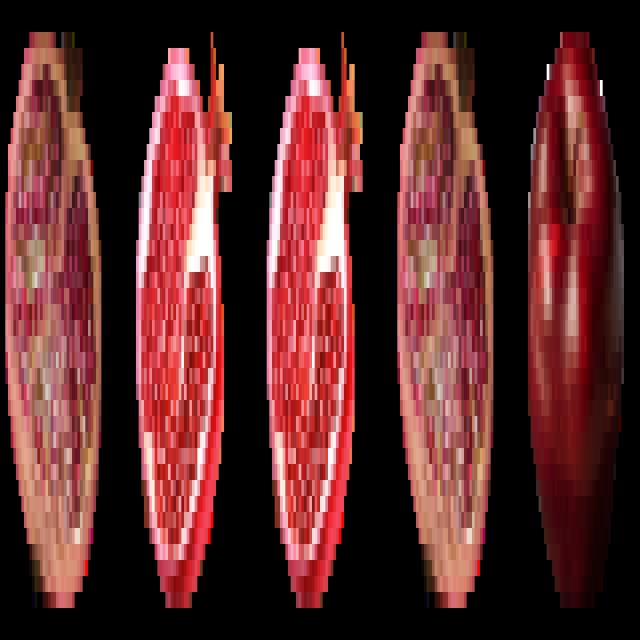apple: (524, 13, 626, 628)
pomegranate: (132, 16, 235, 628), (395, 12, 495, 630), (3, 16, 105, 620), (263, 19, 363, 618)
